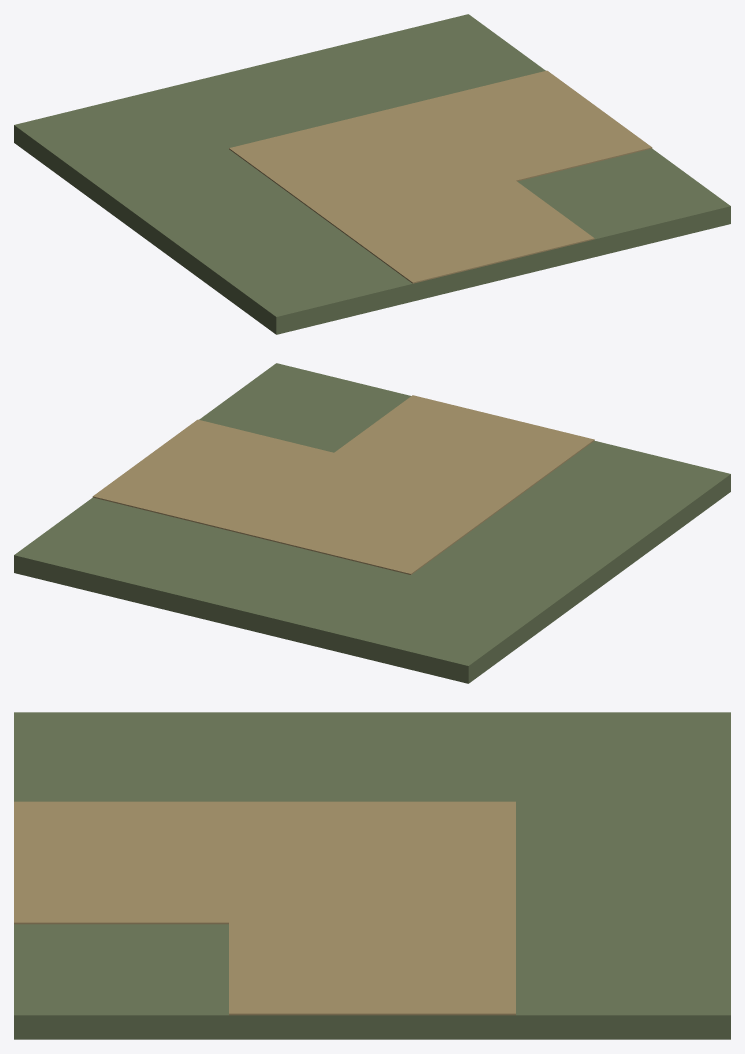
The model's file is terrain_tile_road_corner.glb.
3 views of the same model, one above another, from view 1: azimuth 30°, elevation 25°; view 2: azimuth 150°, elevation 25°; view 3: azimuth 270°, elevation 25° (orthographic). The views are drawn at different scales.
Visible parts, largest first — view 1: terrain_tile_road_corner; view 2: terrain_tile_road_corner; view 3: terrain_tile_road_corner.
Part boxes in pixels (x1,y1,x2,y2): terrain_tile_road_corner: [14, 14, 730, 334]; terrain_tile_road_corner: [14, 363, 730, 683]; terrain_tile_road_corner: [14, 712, 730, 1039].
Size of the model in its own units: 8 by 0.32 by 8.
